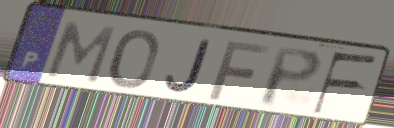F: (310, 50, 382, 116), (206, 38, 274, 103)
J: (163, 38, 213, 95)
M: (42, 19, 119, 87)
O: (107, 27, 161, 90)
P: (257, 45, 325, 110)
